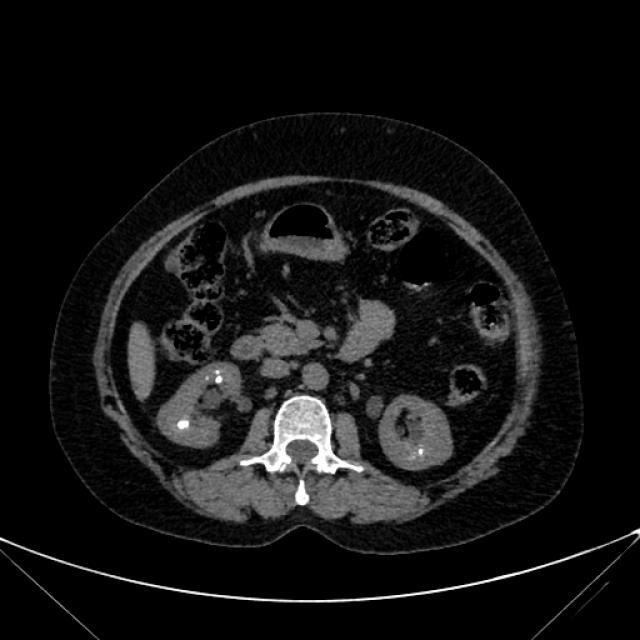kidney: (167, 365, 231, 446), (388, 401, 447, 465)
stone: (178, 421, 190, 426), (216, 376, 222, 383), (418, 450, 423, 454), (216, 370, 219, 373), (206, 376, 208, 379)
